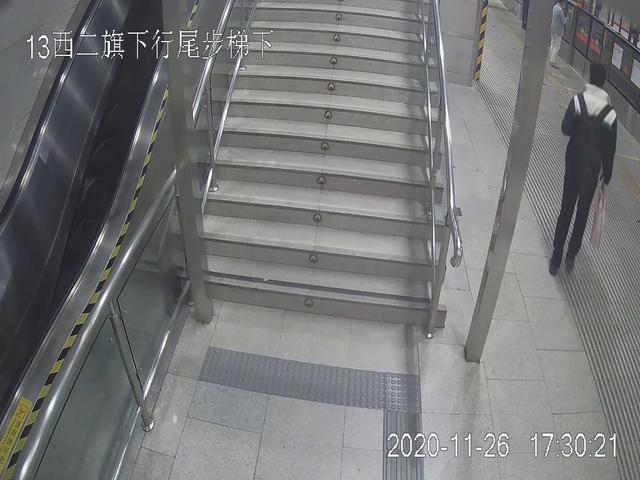person: (552, 61, 618, 281), (542, 1, 568, 66)
